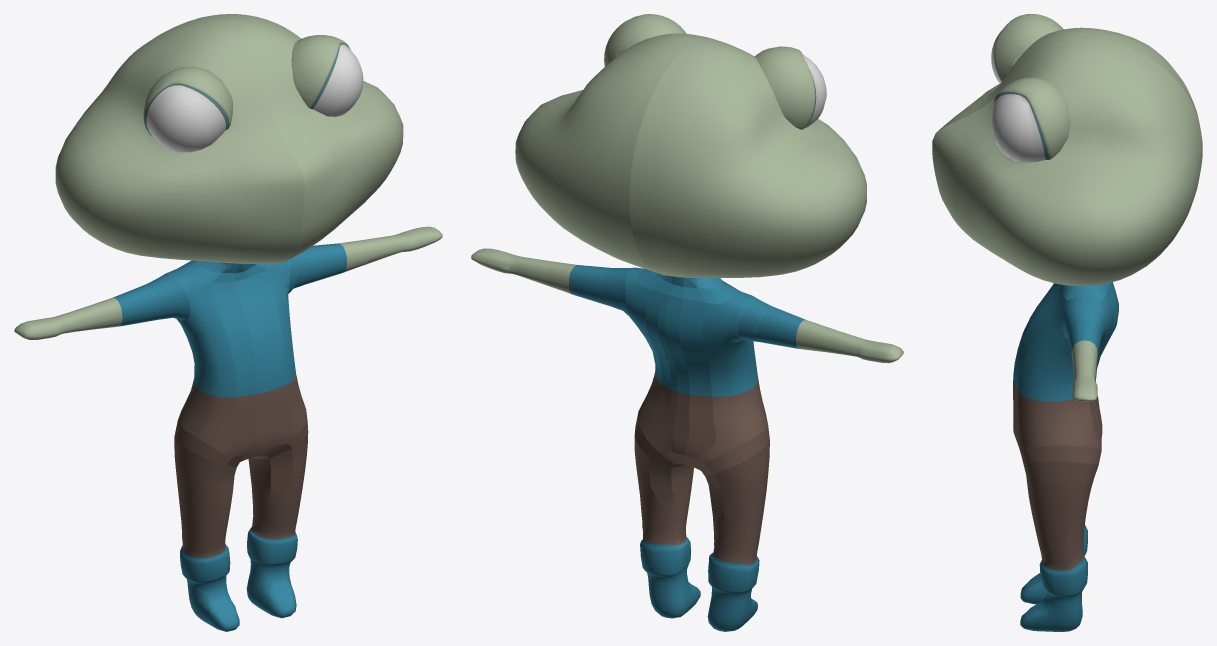
Rendered from Av_Neutral_TPOSE.fbx.
3 views of the same model, side by side, from view 1: azimuth 30°, elevation 25°; view 2: azimuth 150°, elevation 25°; view 3: azimuth 270°, elevation 25° (orthographic).
Parts seen in each view (by area): view 1: Gecko; view 2: Gecko; view 3: Gecko.
Part boxes in pixels (x1=…): Gecko: x1=14, y1=14, x2=442, y2=631; Gecko: x1=471, y1=14, x2=903, y2=631; Gecko: x1=932, y1=14, x2=1202, y2=631.
Size of the model in its own units: 13.56 by 17.75 by 7.57.
